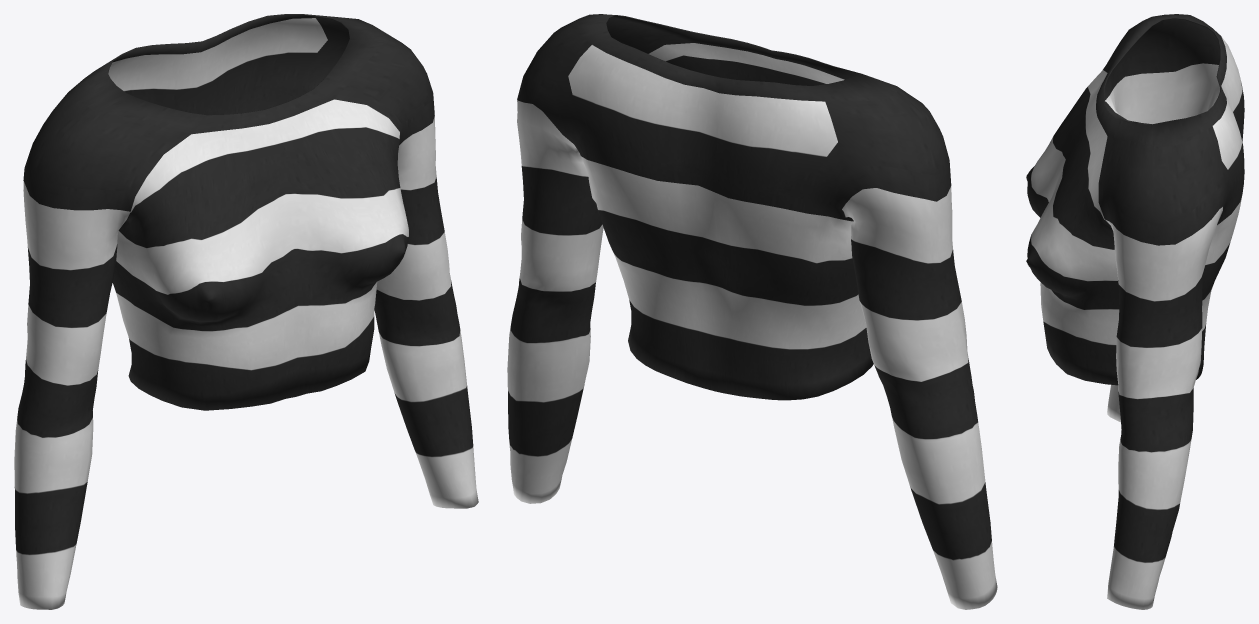
File: ews-striped-shirt.glb
3 renders of one model, left to right at view 1: azimuth 30°, elevation 25°; view 2: azimuth 150°, elevation 25°; view 3: azimuth 270°, elevation 25°, orthographic. The views are drawn at different scales.
Parts seen in each view (by area): view 1: Human.ews_striped_shirt; view 2: Human.ews_striped_shirt; view 3: Human.ews_striped_shirt.
Part boxes in pixels (box(x1,y1,x2,y2)): Human.ews_striped_shirt: box(14, 14, 478, 609); Human.ews_striped_shirt: box(507, 14, 997, 609); Human.ews_striped_shirt: box(1026, 14, 1244, 609).
Bounding box in the file's own units: 0.5003 × 0.5223 × 0.2315.
1 material, 1 textured.
